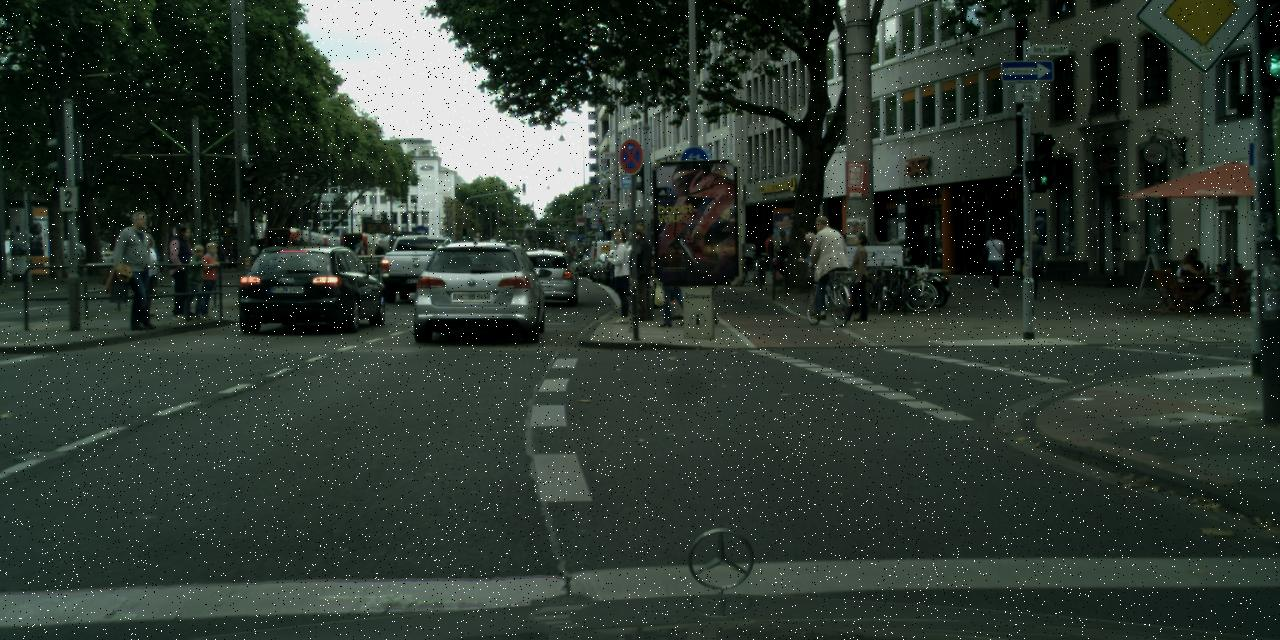ped: (114, 210, 162, 328), (806, 215, 847, 315), (651, 228, 690, 324), (602, 228, 640, 322), (163, 225, 201, 318), (619, 225, 656, 318), (623, 222, 658, 312), (842, 232, 877, 319), (127, 232, 161, 316), (192, 242, 222, 317), (802, 232, 831, 302), (178, 244, 207, 314), (1019, 233, 1045, 299), (982, 229, 1008, 292), (765, 232, 780, 270), (374, 243, 384, 268), (359, 246, 367, 268)
